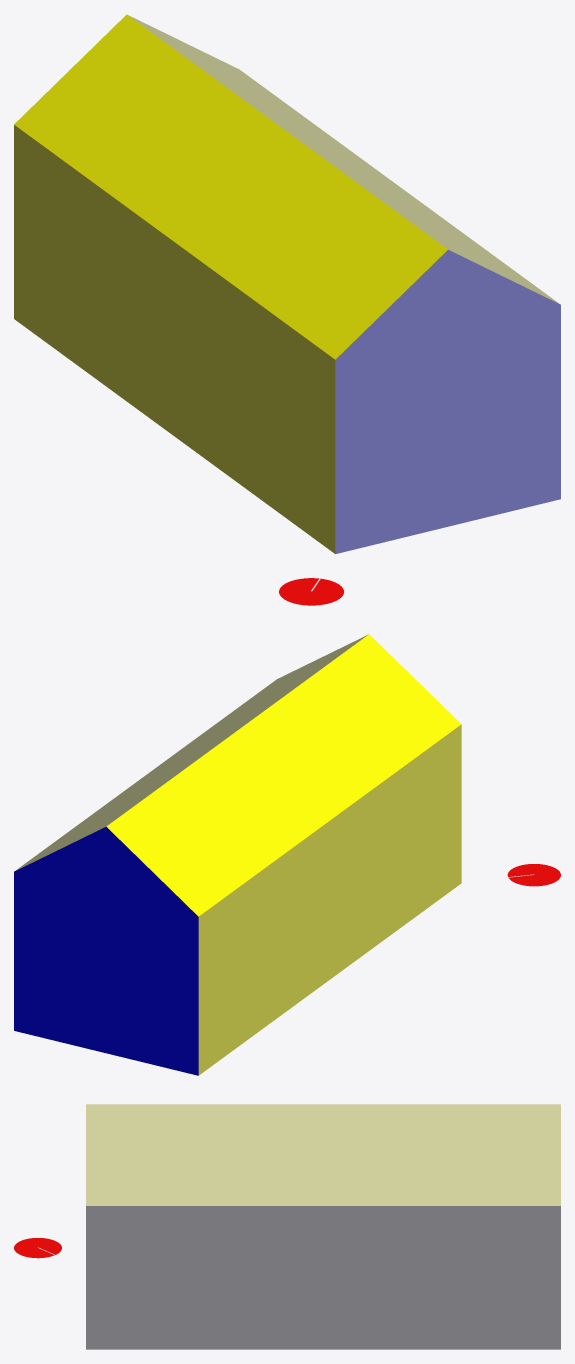
File: result.glb
3 renders of one model, top to bottom at view 1: azimuth 30°, elevation 25°; view 2: azimuth 150°, elevation 25°; view 3: azimuth 270°, elevation 25°, orthographic. The views are drawn at different scales.
Parts seen in each view (by area): view 1: a6731450-e3a8-488d-8da1-15ced1d1693f__undefined, f3c42448-4aa6-4237-84e3-abd508d76da9__undefined, c58be11c-ca2a-4c65-8446-001c1aa0167c__undefined, f8fad7fc-254d-46ee-8c52-9d595b1bfcda__undefined, 5c67e325-5cd3-4157-924d-553873db9106__Circle; view 2: a6731450-e3a8-488d-8da1-15ced1d1693f__undefined, f3c42448-4aa6-4237-84e3-abd508d76da9__undefined, 22f20408-0745-43f5-b565-26cda3bff2a4__undefined, f8fad7fc-254d-46ee-8c52-9d595b1bfcda__undefined, 5c67e325-5cd3-4157-924d-553873db9106__Circle; view 3: 01624a34-70d8-440e-9178-a75b83530f63__undefined, f8fad7fc-254d-46ee-8c52-9d595b1bfcda__undefined, 5c67e325-5cd3-4157-924d-553873db9106__Circle.
Part boxes in pixels (bbox=[...]): a6731450-e3a8-488d-8da1-15ced1d1693f__undefined: bbox=[14, 125, 335, 553]; f3c42448-4aa6-4237-84e3-abd508d76da9__undefined: bbox=[14, 14, 447, 359]; c58be11c-ca2a-4c65-8446-001c1aa0167c__undefined: bbox=[335, 249, 560, 553]; f8fad7fc-254d-46ee-8c52-9d595b1bfcda__undefined: bbox=[128, 15, 560, 304]; 5c67e325-5cd3-4157-924d-553873db9106__Circle: bbox=[279, 578, 343, 605]; a6731450-e3a8-488d-8da1-15ced1d1693f__undefined: bbox=[198, 724, 461, 1075]; f3c42448-4aa6-4237-84e3-abd508d76da9__undefined: bbox=[106, 634, 461, 916]; 22f20408-0745-43f5-b565-26cda3bff2a4__undefined: bbox=[14, 826, 198, 1075]; f8fad7fc-254d-46ee-8c52-9d595b1bfcda__undefined: bbox=[15, 634, 368, 870]; 5c67e325-5cd3-4157-924d-553873db9106__Circle: bbox=[507, 864, 560, 886]; 01624a34-70d8-440e-9178-a75b83530f63__undefined: bbox=[86, 1206, 560, 1349]; f8fad7fc-254d-46ee-8c52-9d595b1bfcda__undefined: bbox=[86, 1104, 560, 1205]; 5c67e325-5cd3-4157-924d-553873db9106__Circle: bbox=[14, 1238, 61, 1258].
Size of the model in its own units: 550 by 469 by 1137.
